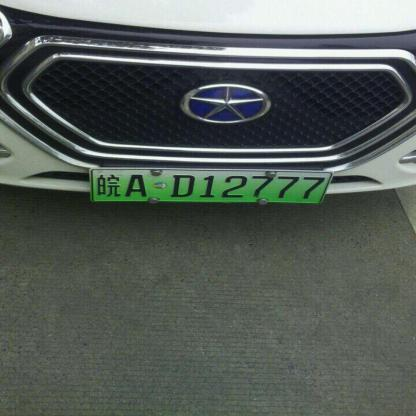lp: (91, 171, 334, 204)
